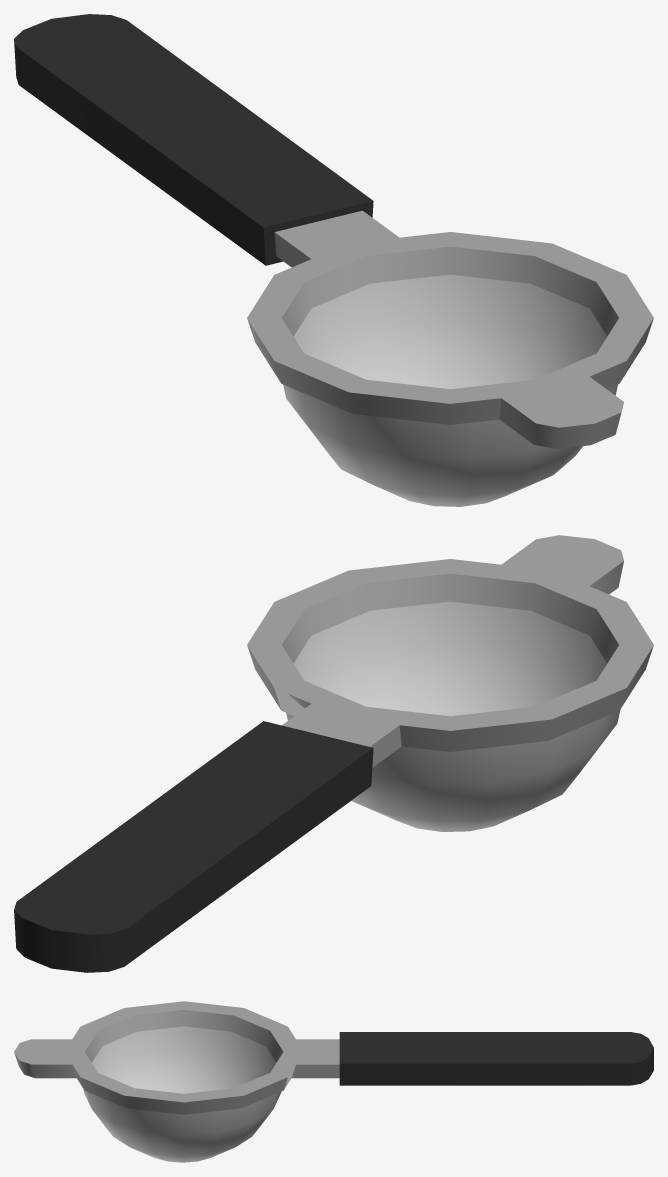
Rendered from TeaStrainer_01.fbx.
3 renders of one model, top to bottom at view 1: azimuth 30°, elevation 25°; view 2: azimuth 150°, elevation 25°; view 3: azimuth 270°, elevation 25°, orthographic. The views are drawn at different scales.
Visible parts, largest first — view 1: TeaStrainer_01; view 2: TeaStrainer_01; view 3: TeaStrainer_01.
Part boxes in pixels (x1=…): TeaStrainer_01: x1=14, y1=14, x2=653, y2=506; TeaStrainer_01: x1=14, y1=535, x2=653, y2=972; TeaStrainer_01: x1=14, y1=1001, x2=653, y2=1162.
Size of the model in its own units: 0.0761 by 0.0369 by 0.2033.
